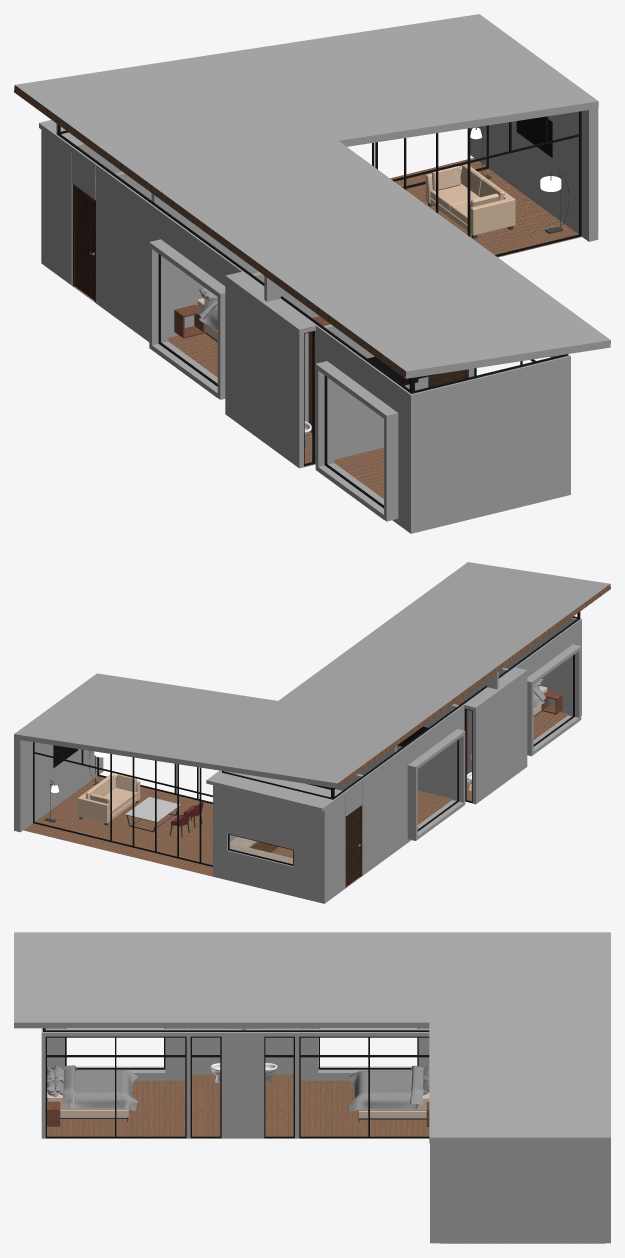
The model's file is swiftXRgeneratedModel_0.glb.
3 renders of one model, top to bottom at view 1: azimuth 30°, elevation 25°; view 2: azimuth 150°, elevation 25°; view 3: azimuth 270°, elevation 25°, orthographic. The views are drawn at different scales.
Parts seen in each view (by area): view 1: Wall, Floor, Metal_Bars, Sofa, Door, TV, Side_Shelf; view 2: Wall, Floor, Metal_Bars, Sofa, Door, Center_Table, Food_Stand, TV; view 3: Wall, Floor, Bedsheet1 (×2), Metal_Bars, Bed (×2).
Part boxes in pixels (left/top/right/bottom): Wall: left=14, top=14, right=610, bottom=533; Floor: left=72, top=158, right=581, bottom=498; Metal_Bars: left=56, top=111, right=581, bottom=508; Sofa: left=425, top=164, right=515, bottom=238; Door: left=72, top=184, right=468, bottom=387; TV: left=367, top=116, right=552, bottom=385; Side_Shelf: left=174, top=304, right=204, bottom=338; Wall: left=14, top=562, right=610, bottom=903; Floor: left=23, top=711, right=567, bottom=887; Metal_Bars: left=33, top=612, right=580, bottom=866; Sofa: left=77, top=773, right=140, bottom=825; Door: left=345, top=805, right=361, bottom=887; Center_Table: left=125, top=797, right=180, bottom=832; Food_Stand: left=229, top=836, right=292, bottom=864; TV: left=53, top=726, right=427, bottom=768; Wall: left=14, top=932, right=610, bottom=1243; Floor: left=46, top=1079, right=604, bottom=1243; Bedsheet1 (×2): left=47, top=1065, right=429, bottom=1111; Metal_Bars: left=43, top=1028, right=429, bottom=1138; Bed (×2): left=47, top=1092, right=429, bottom=1122.
Bounding box in the file's own units: 10.19 × 3.79 × 14.84.
2 materials, 2 textured.
